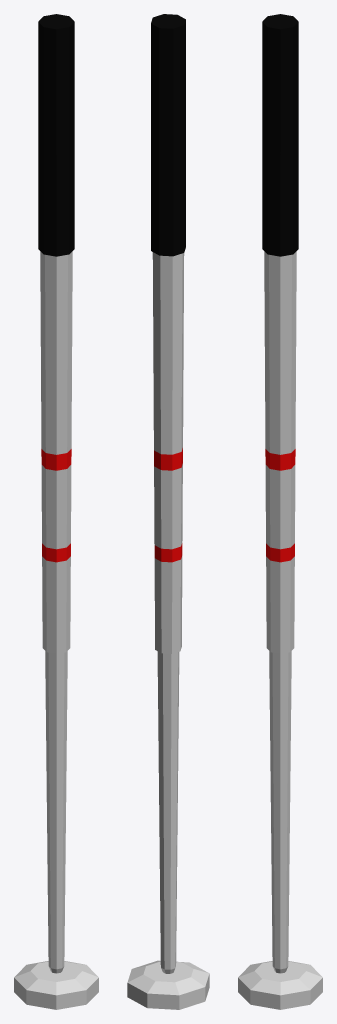
The model's file is WhiteCane.fbx.
3 views of the same model, side by side, from view 1: azimuth 90°, elevation 25°; view 2: azimuth 150°, elevation 25°; view 3: azimuth 270°, elevation 25° (orthographic).
Visible parts, largest first — view 1: Cylinder, Cylinder.001; view 2: Cylinder, Cylinder.001; view 3: Cylinder, Cylinder.001.
Boxes of the visible parts, left/top/right/bottom form: Cylinder: left=38, top=14, right=74, bottom=973; Cylinder.001: left=14, top=961, right=98, bottom=1009; Cylinder: left=151, top=14, right=185, bottom=973; Cylinder.001: left=127, top=960, right=209, bottom=1009; Cylinder: left=262, top=14, right=298, bottom=973; Cylinder.001: left=238, top=961, right=322, bottom=1009.
Bounding box in the file's own units: 228 × 2895 × 228.
